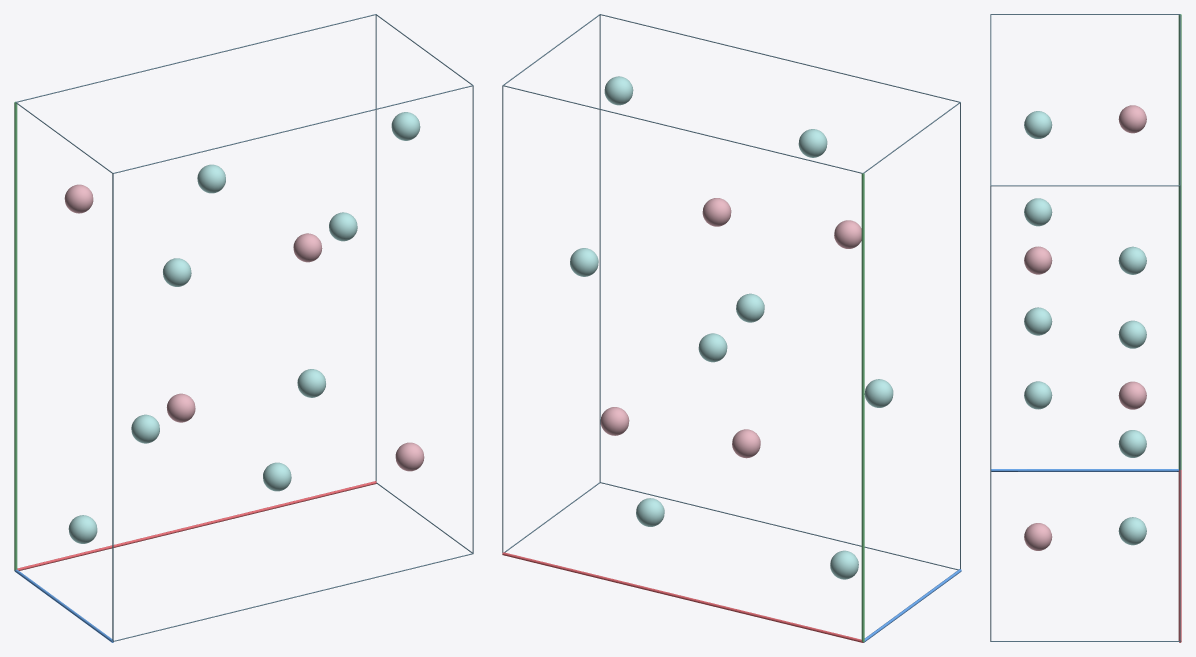
The model's file is chat-strontium-bromide.glb.
3 renders of one model, left to right at view 1: azimuth 30°, elevation 25°; view 2: azimuth 150°, elevation 25°; view 3: azimuth 270°, elevation 25°, orthographic. The views are drawn at different scales.
Parts seen in each view (by area): view 1: Ô mạng và các trục a, b, c, Sr1 · Sr · 1 (×4), Br2 · Br · 1 (×4), Br1 · Br · 1 (×4); view 2: Ô mạng và các trục a, b, c, Br1 · Br · 1 (×4), Br2 · Br · 1 (×4), Sr1 · Sr · 1 (×4); view 3: Ô mạng và các trục a, b, c, Sr1 · Sr · 1 (×4), Br1 · Br · 1 (×4), Br2 · Br · 1 (×4).
Boxes of the visible parts, left/top/right/bottom form: Ô mạng và các trục a, b, c: left=14, top=14, right=473, bottom=642; Sr1 · Sr · 1 (×4): left=64, top=184, right=424, bottom=471; Br2 · Br · 1 (×4): left=131, top=164, right=357, bottom=491; Br1 · Br · 1 (×4): left=68, top=112, right=420, bottom=543; Ô mạng và các trục a, b, c: left=502, top=14, right=961, bottom=642; Br1 · Br · 1 (×4): left=604, top=76, right=858, bottom=579; Br2 · Br · 1 (×4): left=570, top=129, right=893, bottom=526; Sr1 · Sr · 1 (×4): left=600, top=198, right=861, bottom=458; Ô mạng và các trục a, b, c: left=990, top=14, right=1181, bottom=642; Sr1 · Sr · 1 (×4): left=1024, top=105, right=1146, bottom=550; Br1 · Br · 1 (×4): left=1024, top=198, right=1146, bottom=457; Br2 · Br · 1 (×4): left=1024, top=111, right=1146, bottom=545.
Size of the model in its own units: 9.25 by 11.47 by 4.35.
